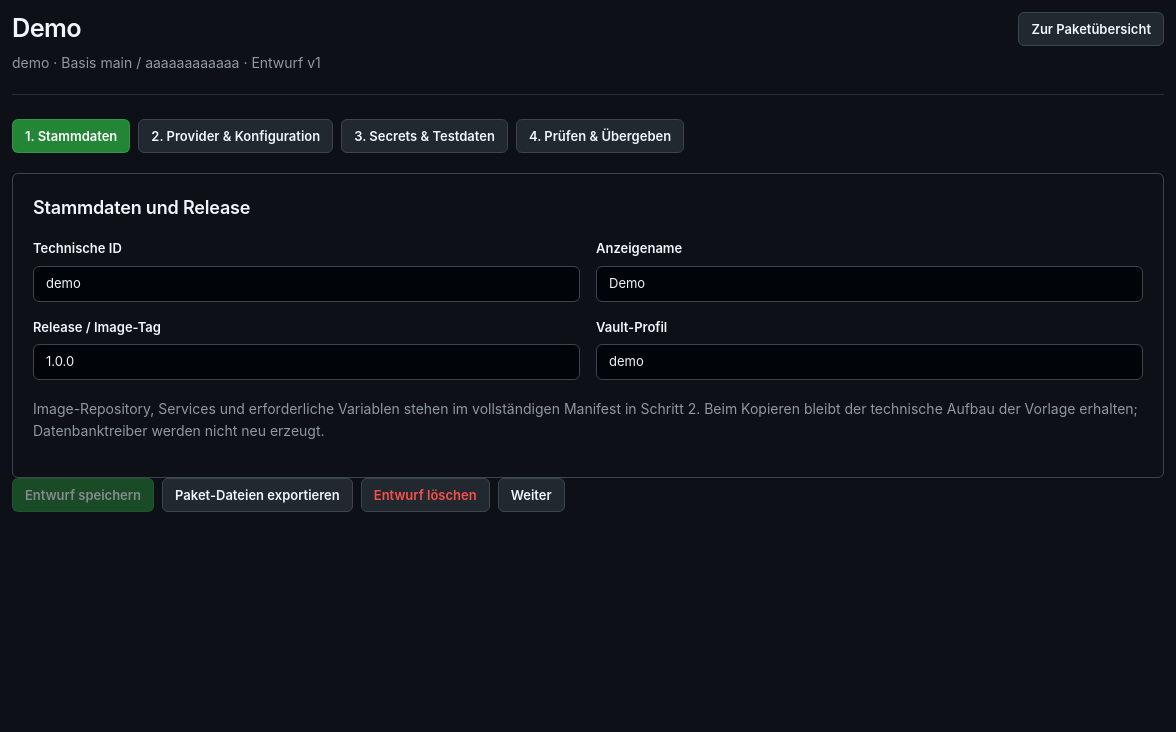
Test: GitLab-Oberfläche › zeigt Konflikte vom Server und verwirft die lokalen Eingaben nicht
Replace the text in the field labelled "Anzeigename" with "Lokal": coordinates (870, 284) x1=596 y1=266 x2=1143 y2=302
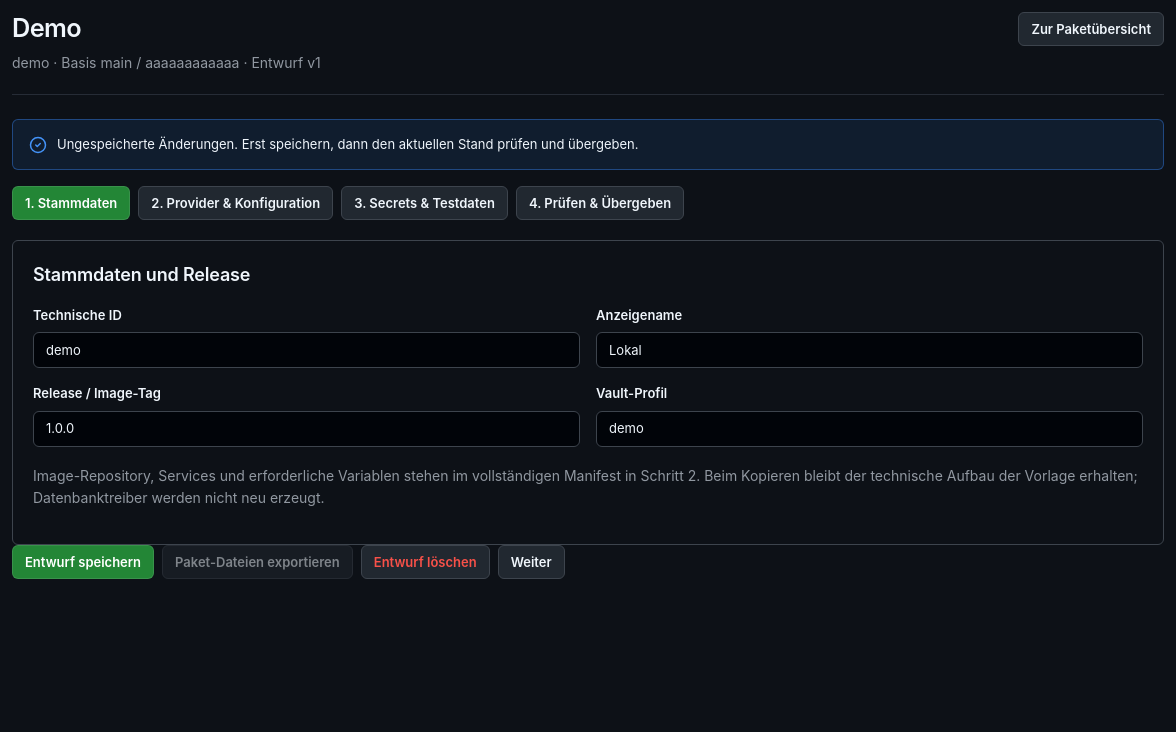
Click the button "Entwurf speichern": coordinates (83, 562) x1=12 y1=545 x2=154 y2=579
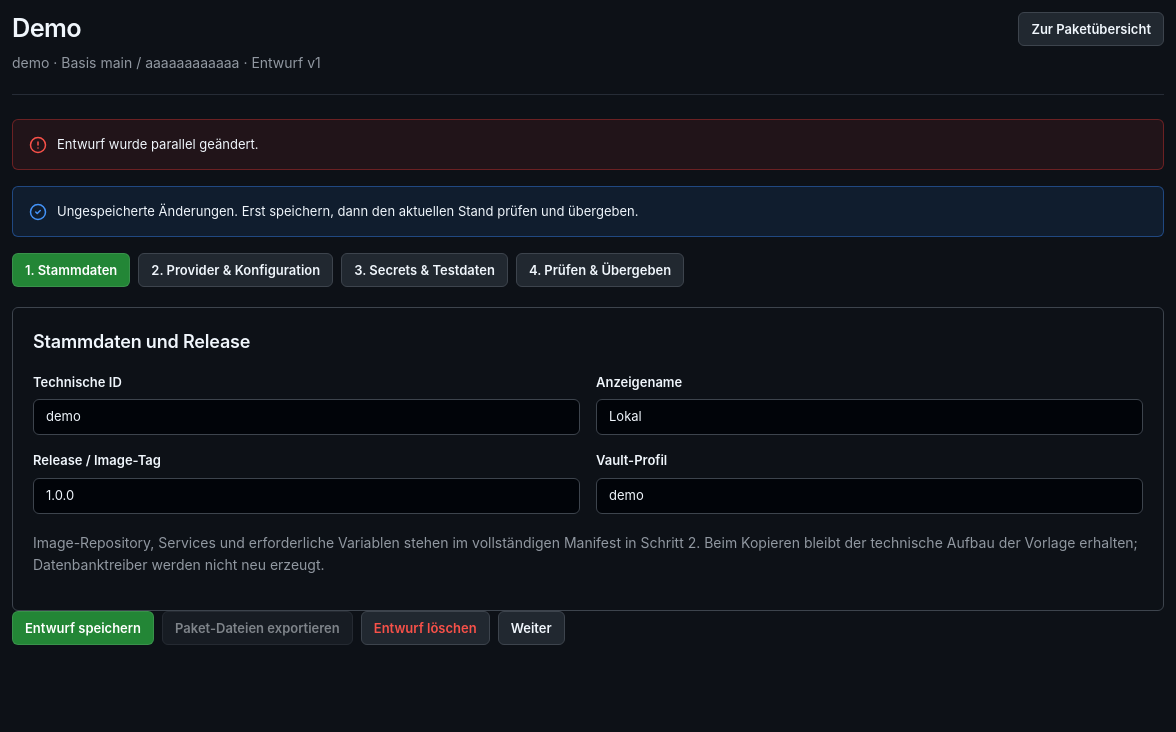
Now the text "Entwurf wurde parallel geändert." is shown, box x1=57 y1=134 x2=259 y2=155
